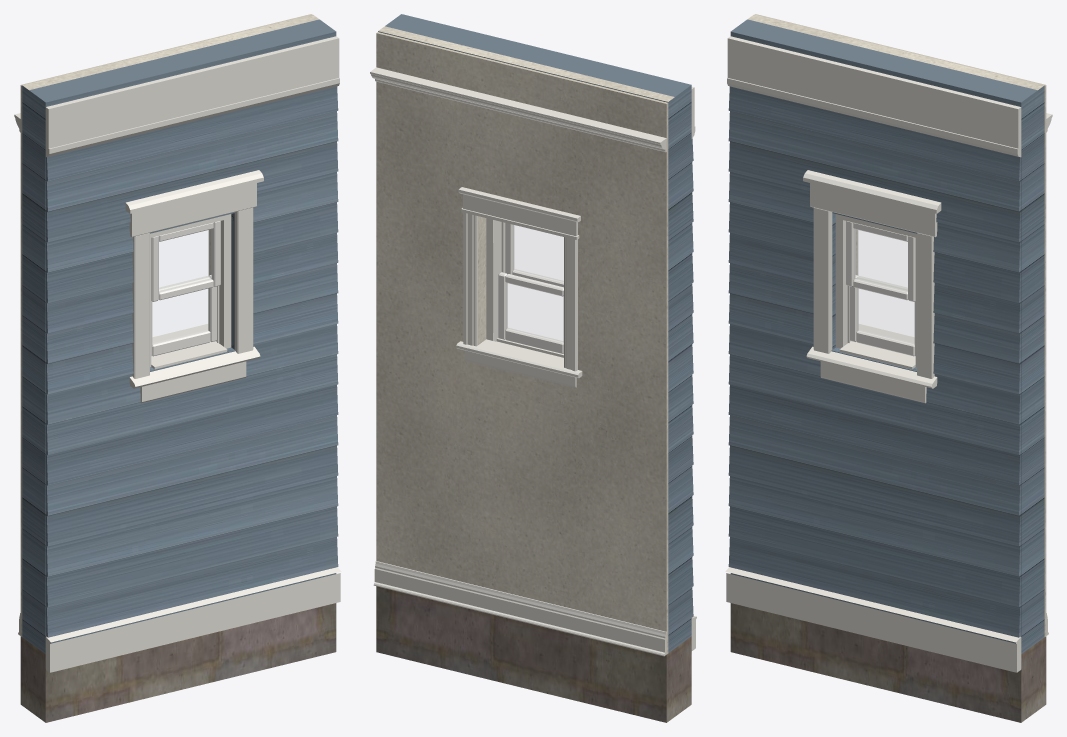
The model's file is wall_siding_small_window.glb.
3 views of the same model, side by side, from view 1: azimuth 30°, elevation 25°; view 2: azimuth 150°, elevation 25°; view 3: azimuth 330°, elevation 25° (orthographic).
Visible parts, largest first — view 1: wall_siding_small_window_siding, wall_siding_small_window_trim, wall_siding_small_window_stone, wall_siding_small_window_plaster, wall_siding_small_window_glass, wall_siding_small_window_frame, folha_glass, wall_siding_small_window_sash, folha_sash, molduras; view 2: wall_siding_small_window_plaster, molduras, wall_siding_small_window_stone, wall_siding_small_window_siding, folha_glass, wall_siding_small_window_frame, wall_siding_small_window_glass, folha_sash, wall_siding_small_window_sash; view 3: wall_siding_small_window_siding, wall_siding_small_window_trim, wall_siding_small_window_stone, wall_siding_small_window_plaster, wall_siding_small_window_glass, wall_siding_small_window_frame, folha_glass, wall_siding_small_window_sash, folha_sash, molduras.
Part boxes in pixels (x1,y1,x2,y2): wall_siding_small_window_siding: (22,19,338,653); wall_siding_small_window_trim: (45,36,341,672); wall_siding_small_window_stone: (20,603,336,722); wall_siding_small_window_plaster: (20,14,319,636); wall_siding_small_window_glass: (159,229,212,291); wall_siding_small_window_frame: (150,214,231,367); folha_glass: (153,289,208,343); wall_siding_small_window_sash: (151,221,220,301); folha_sash: (151,275,216,356); molduras: (14,113,209,635); wall_siding_small_window_plaster: (376,26,674,653); molduras: (370,67,666,656); wall_siding_small_window_stone: (376,586,691,722); wall_siding_small_window_siding: (378,14,693,652); folha_glass: (507,284,562,341); wall_siding_small_window_frame: (486,218,563,357); wall_siding_small_window_glass: (514,225,563,281); folha_sash: (498,272,563,353); wall_siding_small_window_sash: (505,223,563,287); wall_siding_small_window_siding: (728,19,1044,653); wall_siding_small_window_trim: (725,36,1021,672); wall_siding_small_window_stone: (730,603,1046,722); wall_siding_small_window_plaster: (747,14,1046,636); wall_siding_small_window_glass: (854,229,907,291); wall_siding_small_window_frame: (835,214,916,367); folha_glass: (858,289,913,343); wall_siding_small_window_sash: (846,221,915,301); folha_sash: (850,275,915,356); molduras: (857,113,1052,635).
Bounding box in the file's own units: 2 × 4.08 × 0.457.
Materials: 7 (3 with a texture image).
